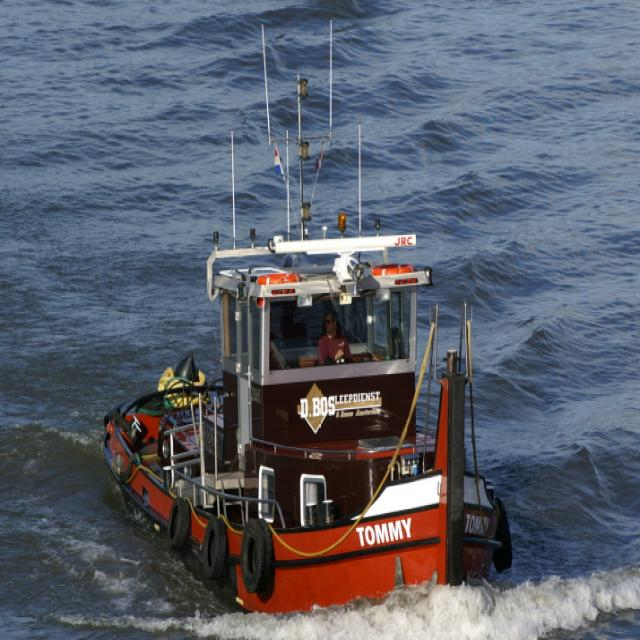tugboat: (99, 225, 517, 628)
